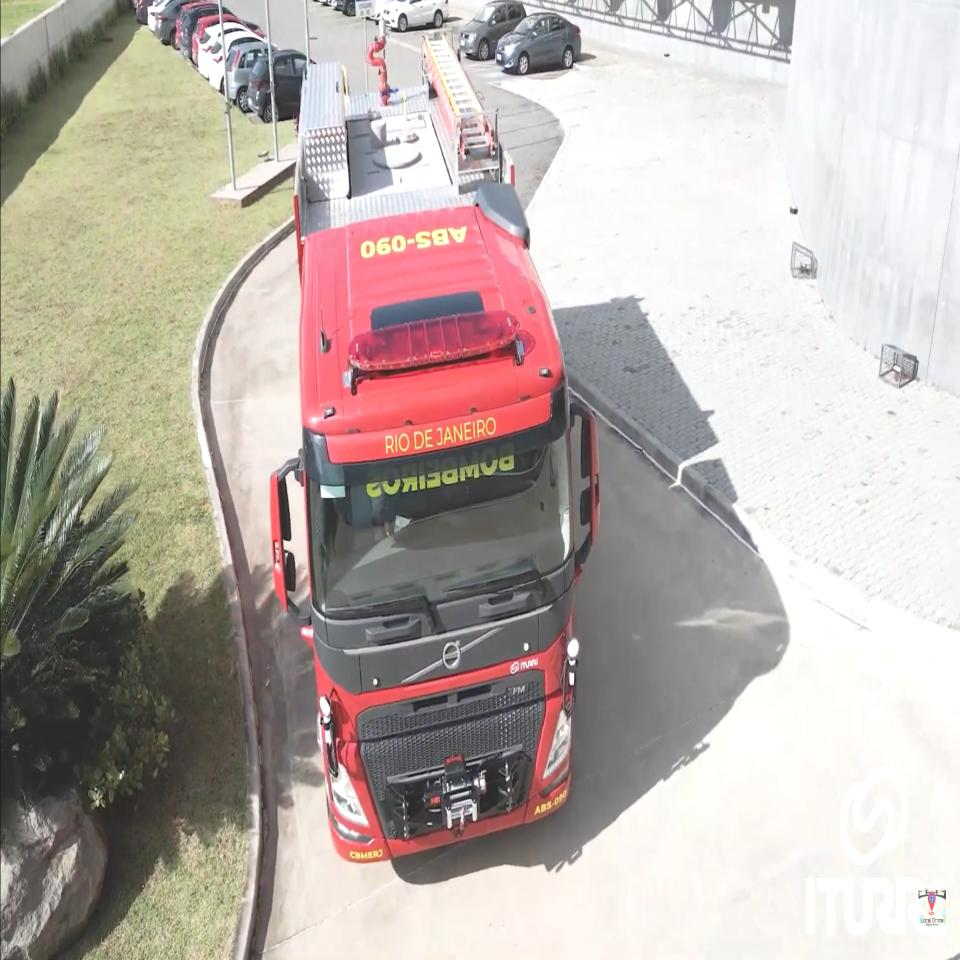bombeiro: (265, 6, 606, 870)
